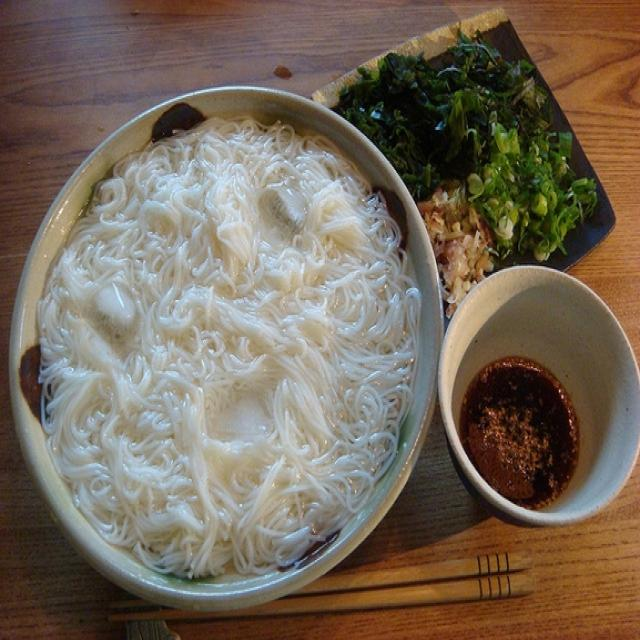面条主食: (8, 13, 631, 628)
